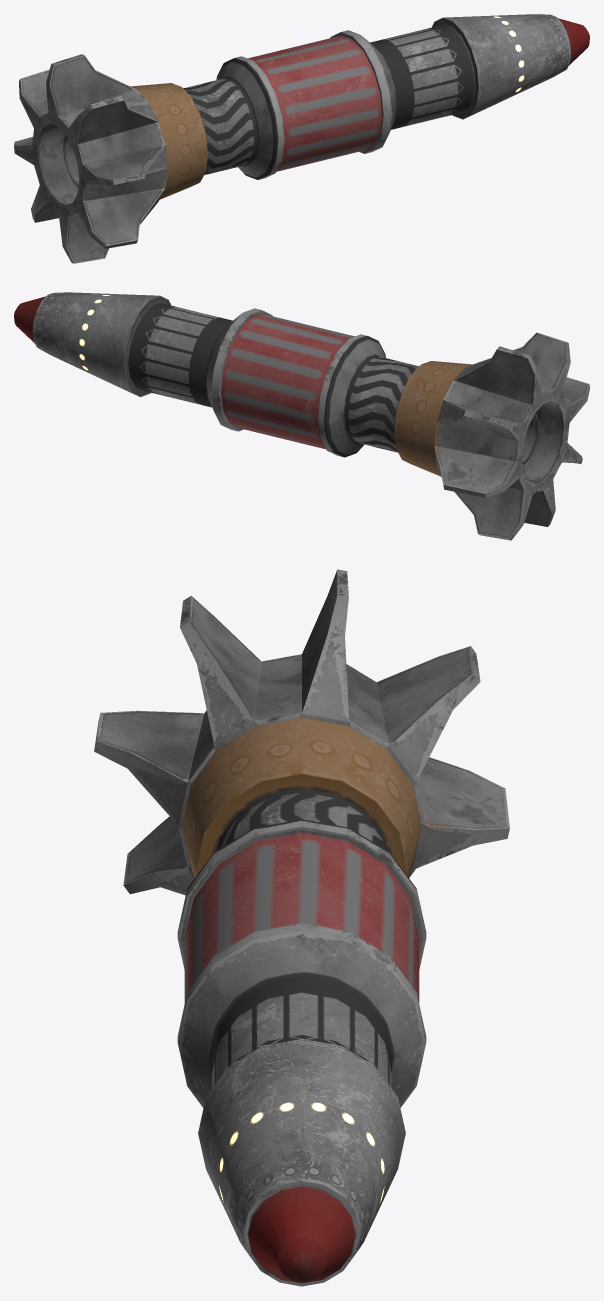
File: uploads-files-4493624-Rocket.fbx
3 views of the same model, one above another, from view 1: azimuth 30°, elevation 25°; view 2: azimuth 150°, elevation 25°; view 3: azimuth 270°, elevation 25° (orthographic). The views are drawn at different scales.
Parts seen in each view (by area): view 1: Rocket; view 2: Rocket; view 3: Rocket.
Boxes of the visible parts, x1,y1,x2,y2 form: Rocket: [14, 14, 589, 263]; Rocket: [14, 292, 589, 540]; Rocket: [94, 569, 509, 1286].
Size of the model in its own units: 89.93 by 30.52 by 30.52.
1 material, 1 textured.
